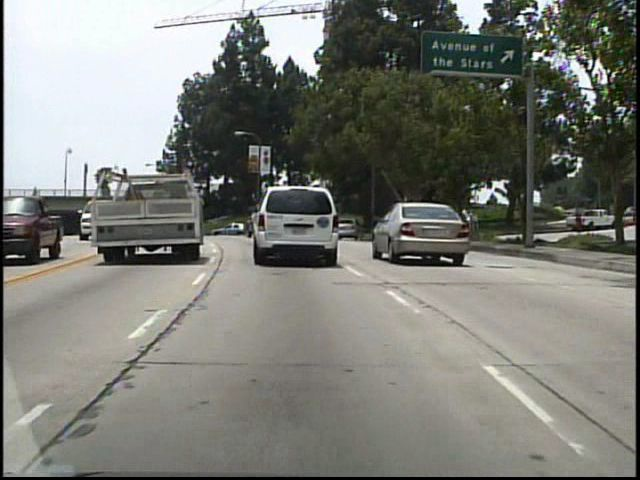person: (29, 183, 40, 203)
